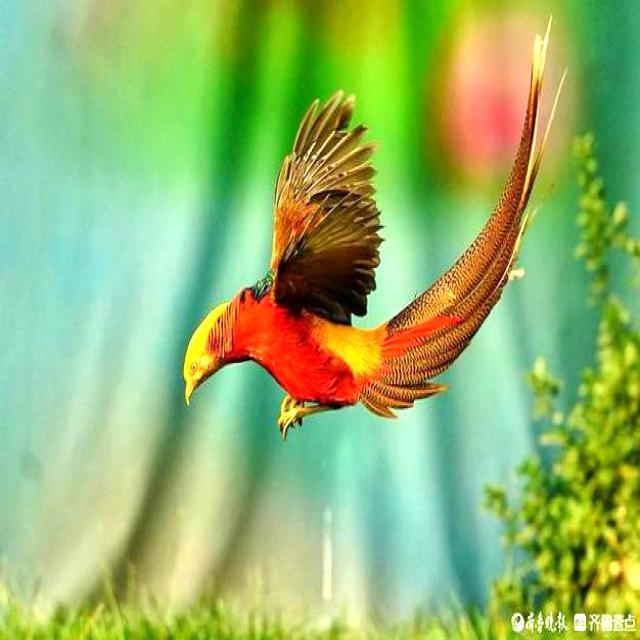Chrysolophus pictus feather: (362, 12, 570, 422)
